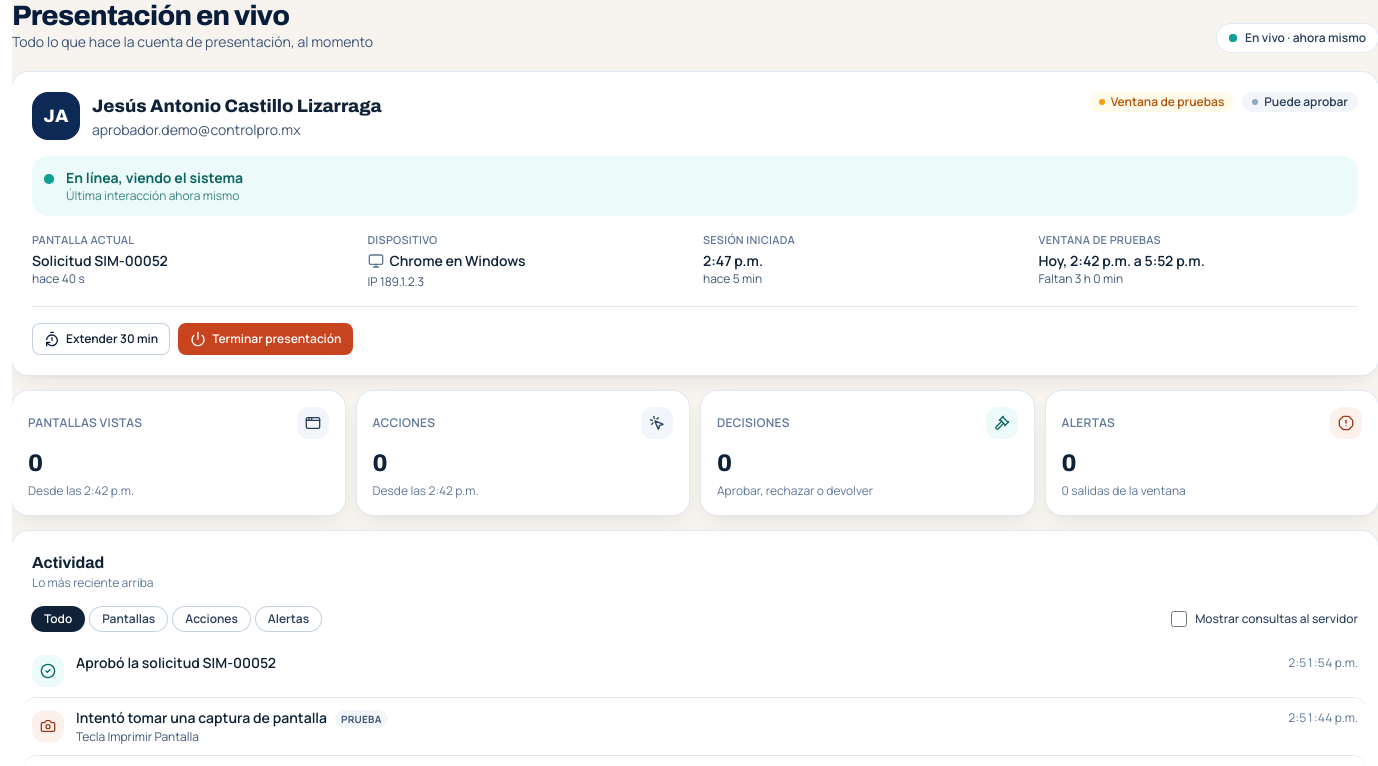
it: presentación en vivo › muestra quién es, si está en línea, en qué pantalla está y lo que hace, en palabras
The width and height of the screenshot is (1378, 766).
Expected: the text "Jesús Antonio Castillo Lizarraga" is shown, [92,92,382,120]
Expected: the text "En línea, viendo el sistema" is shown, [66,168,243,188]
Click the checkbox labelled "Mostrar consultas al servidor": click(1179, 618) [1171,610,1187,626]
(page scrolled)
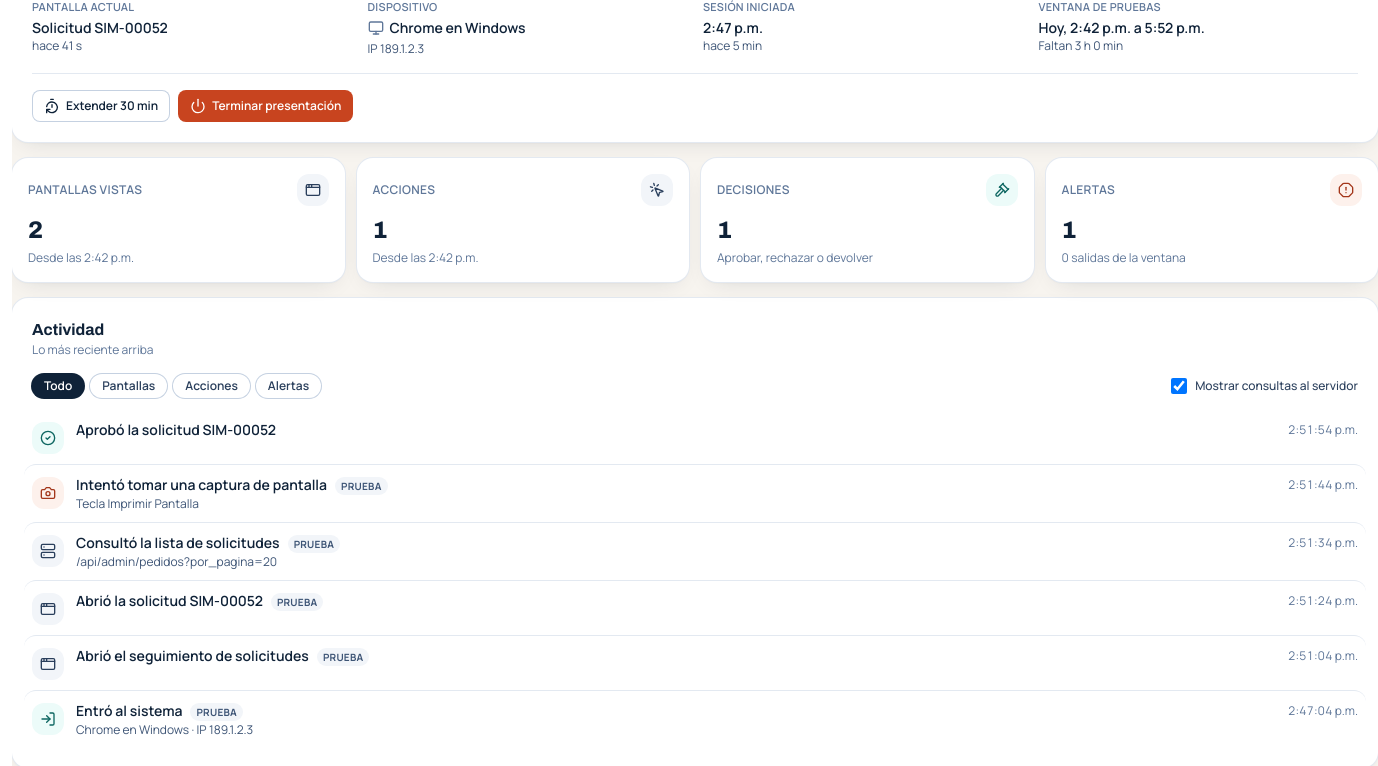
Result: the text "Consultó la lista de solicitudes" is shown at [76,533,280,552]
